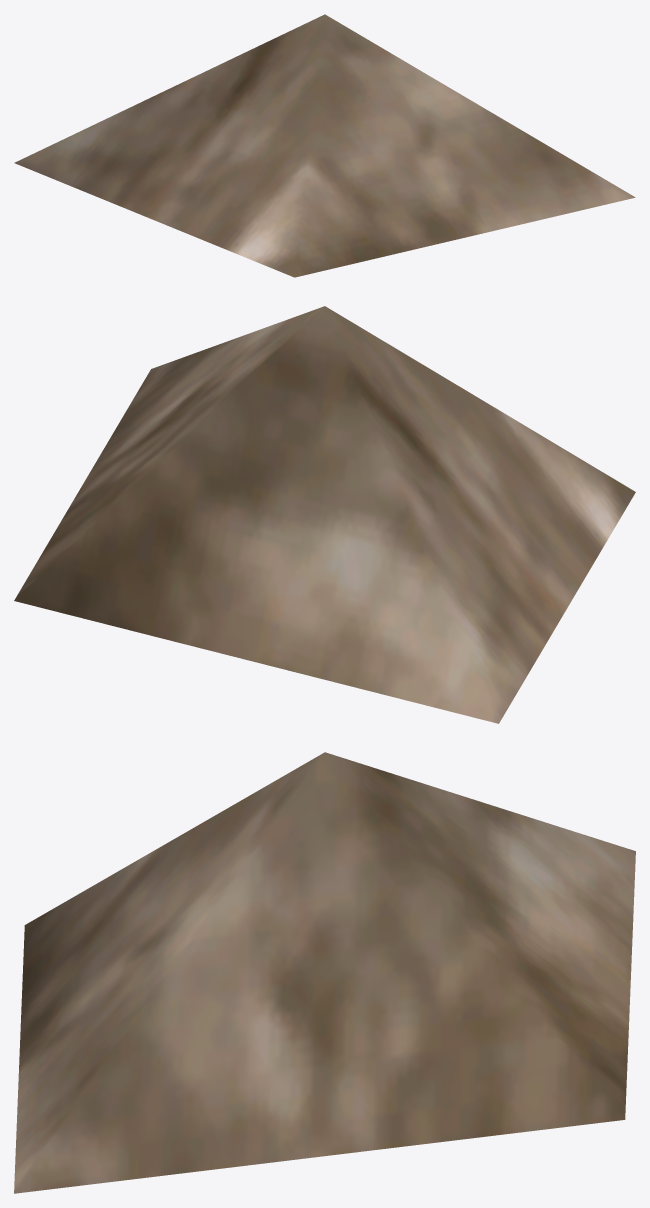
Rendered from OVERHILL_A_01_PLANE15.fbx.
3 views of the same model, one above another, from view 1: azimuth 30°, elevation 25°; view 2: azimuth 150°, elevation 25°; view 3: azimuth 270°, elevation 25° (orthographic). The views are drawn at different scales.
Visible parts, largest first — view 1: OVERHILL_A_01_PLANE15; view 2: OVERHILL_A_01_PLANE15; view 3: OVERHILL_A_01_PLANE15.
Boxes of the visible parts, x1,y1,x2,y2 form: OVERHILL_A_01_PLANE15: [14, 14, 635, 277]; OVERHILL_A_01_PLANE15: [14, 306, 635, 723]; OVERHILL_A_01_PLANE15: [14, 752, 635, 1193].
Size of the model in its own units: 1263 by 465 by 969.
1 material, 1 textured.
